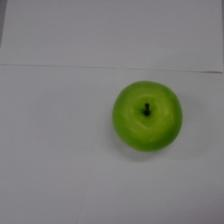green: (112, 81, 182, 152)
